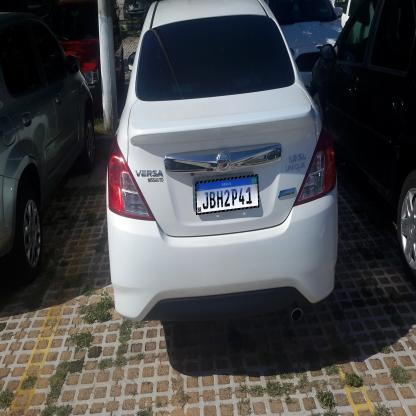PlacaM: (195, 174, 259, 215)
